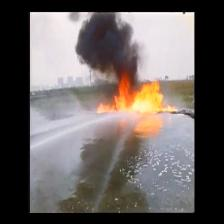fire: (100, 79, 166, 113)
smoke: (82, 21, 132, 68)
